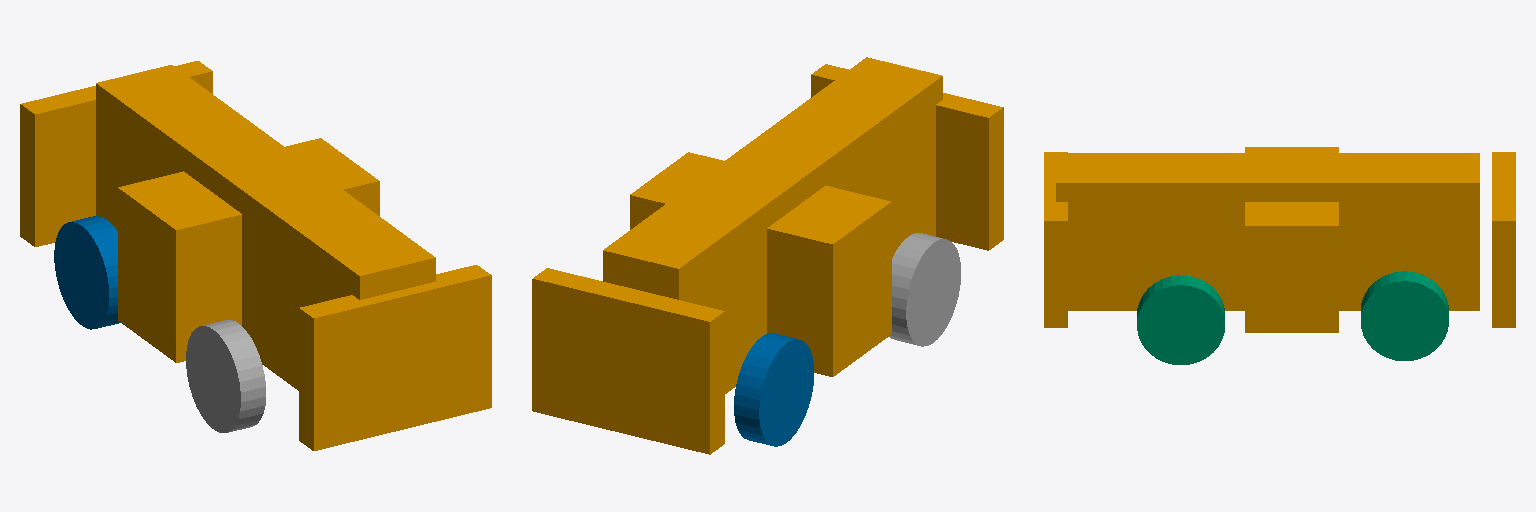
robot.urdf — vacop:
<?xml version="1.0"?>
<robot name="vacop" xmlns:xacro="http://ros.org/wiki/xacro">
  <link name="base_link">
    <visual>
      <origin xyz="-0.07 0.1 0" rpy="0 0 0"/>
      <geometry>
        <box size="0.8 0.4 0.5"/>
      </geometry>
    </visual>
    <collision>
      <origin xyz="-0.07 0.1 0" rpy="0 0 0"/>
      <geometry>
        <box size="0.8 0.4 0.5"/>
      </geometry>
    </collision>
    <visual>
      <origin xyz="-0.07 1 0" rpy="0 0 0"/>
      <geometry>
        <box size="0.7 0.1 0.5"/>
      </geometry>
    </visual>
    <collision>
      <origin xyz="-0.07 1 0" rpy="0 0 0"/>
      <geometry>
        <box size="0.7 0.1 0.5"/>
      </geometry>
    </collision>
    <visual>
      <origin xyz="-0.07 -0.9 0" rpy="0 0 0"/>
      <geometry>
        <box size="0.7 0.1 0.5"/>
      </geometry>
    </visual>
    <collision>
      <origin xyz="-0.07 -0.9 0" rpy="0 0 0"/>
      <geometry>
        <box size="0.7 0.1 0.5"/>
      </geometry>
    </collision>
    <visual>
      <origin xyz="-0.06 0 0.04" rpy="0 0 0"/>
      <geometry>
        <box size="0.3 1.8 0.6"/>
      </geometry>
    </visual>
    <collision>
      <origin xyz="-0.06 0 0.04" rpy="0 0 0"/>
      <geometry>
        <box size="0.3 1.8 0.6"/>
      </geometry>
    </collision>
  </link>
  <joint name="moteur_ag" type="continuous">
    <parent link="base_link"/>
    <child link="Roues_ag"/>
    <axis xyz="-0.000009 -1 -0.000008"/>
    <limit effort="50" velocity="100"/>
    <origin xyz="0.27 0.58 -0.2" rpy="3.141585 -0.023084 -1.570806"/>
  </joint>
  <link name="Roues_ag">
  </link>
  <link name="vehicle wheel">
    <visual>
      <origin xyz="0 0 0" rpy="1.570796 0 0"/>
      <geometry>
        <cylinder radius="0.188" length="0.1"/>
      </geometry>
    </visual>
    <collision>
      <origin xyz="0 0 0" rpy="1.570796 0 0"/>
      <geometry>
        <cylinder radius="0.188" length="0.1"/>
      </geometry>
    </collision>
  </link>
  <joint name="Roues_ag_vehicle wheel_joint" type="fixed">
    <parent link="Roues_ag"/>
    <child link="vehicle wheel"/>
    <origin xyz="0 0 0" rpy="0 0 0"/>
  </joint>
  <joint name="moteur_ad" type="continuous">
    <parent link="base_link"/>
    <child link="Roues_ad"/>
    <axis xyz="-0.000004 1 0.000001"/>
    <limit effort="50" velocity="100"/>
    <origin xyz="-0.4 0.58 -0.2" rpy="3.14159 -0.245431 1.5708"/>
  </joint>
  <link name="Roues_ad">
  </link>
  <link name="vehicle wheel_0">
    <visual>
      <origin xyz="0 0 0" rpy="1.570796 0 0"/>
      <geometry>
        <cylinder radius="0.188" length="0.1"/>
      </geometry>
    </visual>
    <collision>
      <origin xyz="0 0 0" rpy="1.570796 0 0"/>
      <geometry>
        <cylinder radius="0.188" length="0.1"/>
      </geometry>
    </collision>
  </link>
  <joint name="Roues_ad_vehicle wheel_0_joint" type="fixed">
    <parent link="Roues_ad"/>
    <child link="vehicle wheel_0"/>
    <origin xyz="0 0 0" rpy="0 0 0"/>
  </joint>
  <joint name="direction_droite" type="revolute">
    <parent link="base_link"/>
    <child link="porte_fusee_droite"/>
    <axis xyz="-0.000013 0 1"/>
    <limit effort="100" lower="-2" upper="2" velocity="10"/>
    <origin xyz="-0.43 -0.37 -0.2" rpy="0 0.000013 -0.000007"/>
  </joint>
  <link name="porte_fusee_droite">
  </link>
  <joint name="moteur_avant_droite" type="continuous">
    <parent link="porte_fusee_droite"/>
    <child link="Roues_avant_droite"/>
    <axis xyz="-0.000003 1 0"/>
    <limit effort="50" velocity="100"/>
    <origin xyz="0 0 0" rpy="3.141587 -1.038502 1.570803"/>
  </joint>
  <link name="Roues_avant_droite">
  </link>
  <link name="vehicle wheel_1">
    <visual>
      <origin xyz="0 0 0" rpy="1.570796 0 0"/>
      <geometry>
        <cylinder radius="0.188" length="0.1"/>
      </geometry>
    </visual>
    <collision>
      <origin xyz="0 0 0" rpy="1.570796 0 0"/>
      <geometry>
        <cylinder radius="0.188" length="0.1"/>
      </geometry>
    </collision>
  </link>
  <joint name="Roues_avant_droite_vehicle wheel_1_joint" type="fixed">
    <parent link="Roues_avant_droite"/>
    <child link="vehicle wheel_1"/>
    <origin xyz="0 0 0" rpy="0 0 0"/>
  </joint>
  <joint name="direction_gauche" type="revolute">
    <parent link="base_link"/>
    <child link="porte_fusee_gauche"/>
    <axis xyz="0.000002 0 1"/>
    <limit effort="100" lower="-2" upper="2" velocity="10"/>
    <origin xyz="0.31 -0.37 -0.2" rpy="0 -0.000002 -3.141592"/>
  </joint>
  <link name="porte_fusee_gauche">
  </link>
  <joint name="moteur_avant_gauche" type="continuous">
    <parent link="porte_fusee_gauche"/>
    <child link="Roues_avant_droite_2"/>
    <axis xyz="-0.000003 1 0"/>
    <limit effort="50" velocity="100"/>
    <origin xyz="0 0 0" rpy="0.000002 -0.42686 -1.5708"/>
  </joint>
  <link name="Roues_avant_droite_2">
  </link>
  <link name="vehicle wheel_3">
    <visual>
      <origin xyz="0 0 0" rpy="1.570796 0 0"/>
      <geometry>
        <cylinder radius="0.188" length="0.1"/>
      </geometry>
    </visual>
    <collision>
      <origin xyz="0 0 0" rpy="1.570796 0 0"/>
      <geometry>
        <cylinder radius="0.188" length="0.1"/>
      </geometry>
    </collision>
  </link>
  <joint name="Roues_avant_droite_2_vehicle wheel_3_joint" type="fixed">
    <parent link="Roues_avant_droite_2"/>
    <child link="vehicle wheel_3"/>
    <origin xyz="0 0 0" rpy="0 0 0"/>
  </joint>
  <link name="camera">
  </link>
  <joint name="base_link_camera_joint" type="fixed">
    <parent link="base_link"/>
    <child link="camera"/>
    <origin xyz="-0.06 -0.23 0.31" rpy="-1.570796 0 -3.141596"/>
  </joint>
  <link name="lidar">
  </link>
  <joint name="base_link_lidar_joint" type="fixed">
    <parent link="base_link"/>
    <child link="lidar"/>
    <origin xyz="-0.06 0.1 0.42" rpy="0 0 -1.5708"/>
  </joint>
  
  <webots>
    <plugin type="webots_ros2_control::Ros2Control" />

    <device reference="camera" type="Camera">
      <ros>
        <topicName>/camera/image_raw</topicName>
        <alwaysOn>true</alwaysOn>
      </ros>
    </device>

    <device reference="lidar" type="Lidar">
      <ros>
        <topicName>/scan</topicName>
        <enabled>true</enabled>
        <alwaysOn>true</alwaysOn>
      </ros>
    </device>
  </webots>
  
  <ros2_control name="WebotsControl" type="system">
        <hardware>
            <plugin>webots_ros2_control::Ros2ControlSystem</plugin>
        </hardware>

        <joint name="moteur_ad">
            <command_interface name="velocity"/>
            <state_interface name="velocity"/>
            <state_interface name="position"/>
        </joint>
        <joint name="moteur_ag">
            <command_interface name="velocity"/>
            <state_interface name="velocity"/>
            <state_interface name="position"/>
        </joint>
        <joint name="moteur_avant_gauche">
            <command_interface name="velocity"/>
            <state_interface name="velocity"/>
            <state_interface name="position"/>
        </joint>
        <joint name="moteur_avant_droite">
            <command_interface name="velocity"/>
            <state_interface name="velocity"/>
            <state_interface name="position"/>
        </joint>

        <joint name="direction_gauche">
            <command_interface name="position"/>
            <state_interface name="position"/>
        </joint>
        <joint name="direction_droite">
            <command_interface name="position"/>
            <state_interface name="position"/>
        </joint>
    </ros2_control>
</robot>

--- Facts derived from the render (not from the file) ---
The picture shows the robot from 3 angles, left to right: view 1: azimuth 30°, elevation 25°; view 2: azimuth 150°, elevation 25°; view 3: azimuth 270°, elevation 25°; orthographic projection.
Robot: vacop — 13 links, 12 joints (2 revolute, 4 continuous, 6 fixed); root link base_link; default pose: all joints at 0.
Visible links, largest first — view 1: base_link, vehicle wheel_1, vehicle wheel_0; view 2: base_link, vehicle wheel_0, vehicle wheel_1; view 3: base_link, vehicle wheel, vehicle wheel_3.
Boxes of the visible links, x1,y1,x2,y2 form: base_link: [20, 61, 491, 450]; vehicle wheel_1: [186, 320, 265, 432]; vehicle wheel_0: [54, 216, 120, 329]; base_link: [532, 57, 1003, 454]; vehicle wheel_0: [734, 333, 813, 446]; vehicle wheel_1: [889, 233, 960, 346]; base_link: [1044, 147, 1515, 332]; vehicle wheel: [1361, 271, 1448, 360]; vehicle wheel_3: [1137, 275, 1224, 364].
Size in the robot's own frame: 0.84 by 2 by 0.728 metres.
Geometry: primitives only (box / cylinder / sphere), no mesh files.